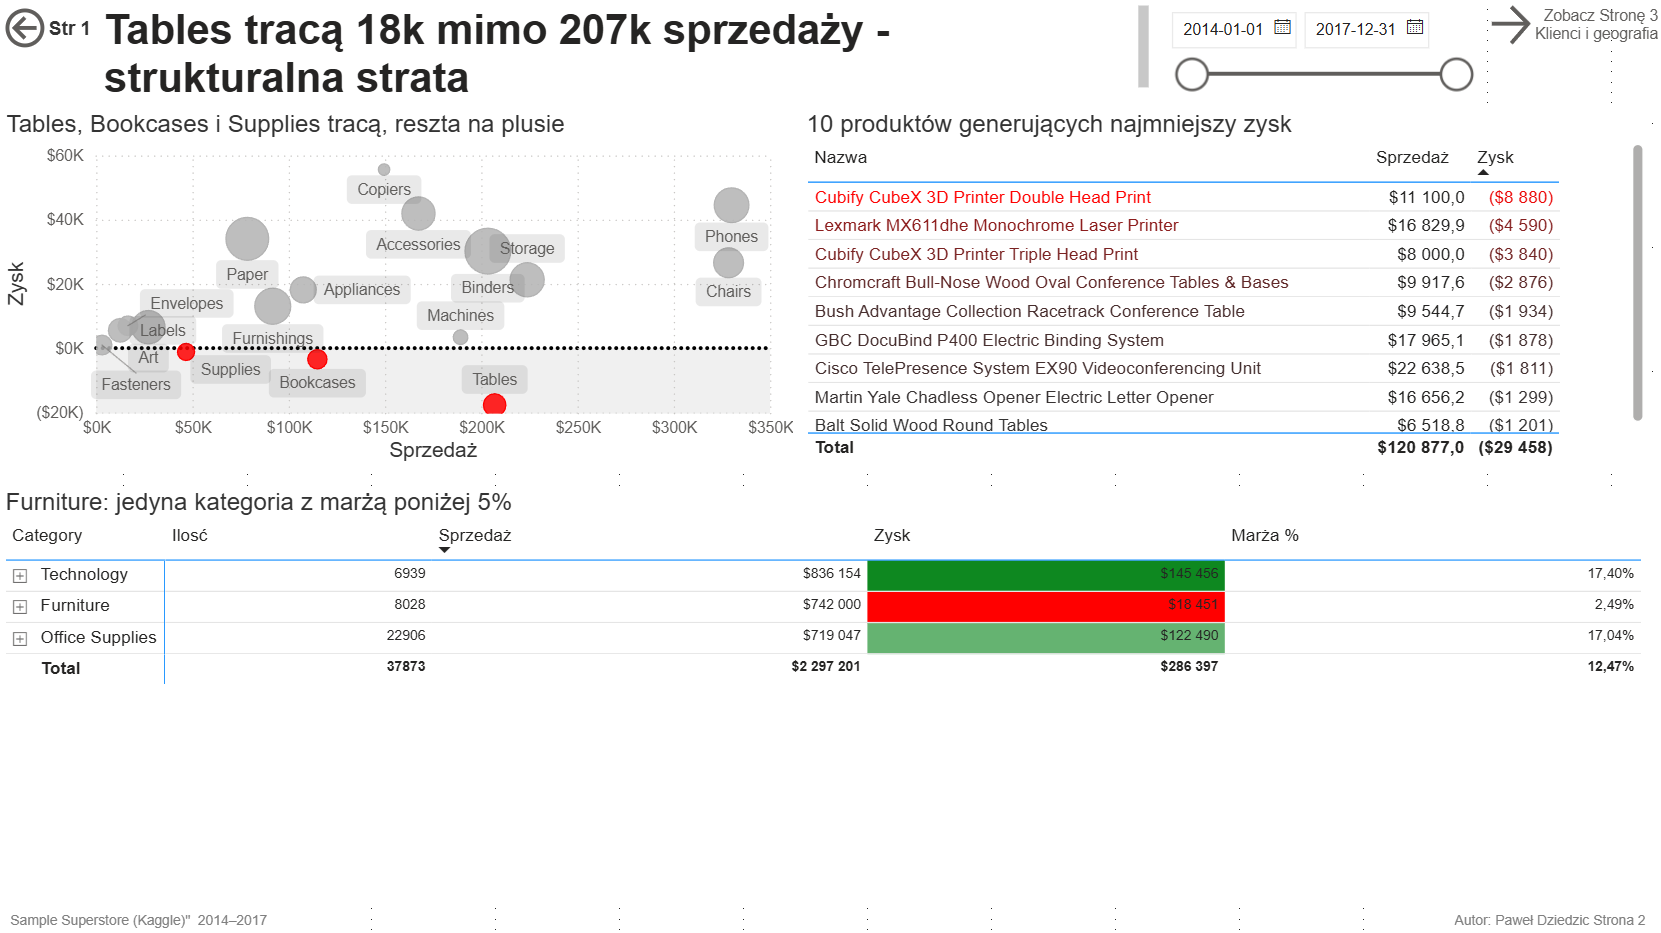

This screenshot's page, from the dashboard's own definition file:
{"tool":"powerbi","page":{"name":"Produkty","canvas":[1280,720],"ordinal":1},"visuals":[{"type":"pivotTable","title":"Furniture: jedyna kategoria z   marżą poniżej 5%","fields":{"Rows":["Dim_product.Category","Dim_product.Sub-Category","Dim_product.Product Name"],"Values":["Sum(Fact_orders.Quantity)","Fact_orders.Total_sales","Fact_orders.Total_proft","Fact_orders.Profit Margin %","select"]},"box":[0,376,1280,319],"z":0},{"type":"textbox","box":[1,695,260,25],"z":0,"group":"g1"},{"type":"scatterChart","title":"Tables, Bookcases i Supplies tracą, reszta na plusie","fields":{"Size":["Sum(Fact_orders.Quantity)"],"X":["Fact_orders.Total_sales"],"Y":["Fact_orders.Total_proft"],"Category":["Dim_product.Sub-Category"]},"box":[1,85.4,615.4,274.6],"z":1000},{"type":"textbox","box":[1115,695,165,25],"z":1000,"group":"g1"},{"type":"actionButton","title":"cs","box":[0,1.9,75,39.9],"z":2000},{"type":"tableEx","title":"10 produktów generujących najmniejszy zysk","fields":{"Values":["Dim_product.Product Name","Fact_orders.Total_sales","Fact_orders.Total_profit"]},"box":[616,85,654,275],"z":3000},{"type":"slicer","fields":{"Values":["Dim_date.Data"]},"box":[889,0,253,85],"z":4000},{"type":"textbox","box":[75,0,814,85],"z":5000},{"type":"textbox","box":[0,695,266,25],"z":8000},{"type":"group","id":"g1","title":"Group 1","box":[1,695,1279,25],"z":9000},{"type":"actionButton","box":[1142,0,138,40],"z":10000}]}

Visuals, with their boxes in screenshot pixels (x1, y1, x2, y2), scaled from the page's 1280x720 canvas onto the 1661x933 screenshot:
"Furniture: jedyna kategoria z   marżą poniżej 5%" pivotTable: (x1=0, y1=487, x2=1660, y2=901)
textbox: (x1=1, y1=901, x2=339, y2=932)
"Tables, Bookcases i Supplies tracą, reszta na plusie" scatterChart: (x1=1, y1=111, x2=800, y2=466)
textbox: (x1=1447, y1=901, x2=1660, y2=932)
"cs" actionButton: (x1=0, y1=2, x2=97, y2=54)
"10 produktów generujących najmniejszy zysk" tableEx: (x1=799, y1=110, x2=1648, y2=466)
slicer - Dim_date.Data: (x1=1154, y1=0, x2=1482, y2=110)
textbox: (x1=97, y1=0, x2=1154, y2=110)
textbox: (x1=0, y1=901, x2=345, y2=932)
"Group 1" group: (x1=1, y1=901, x2=1660, y2=932)
actionButton: (x1=1482, y1=0, x2=1660, y2=52)
